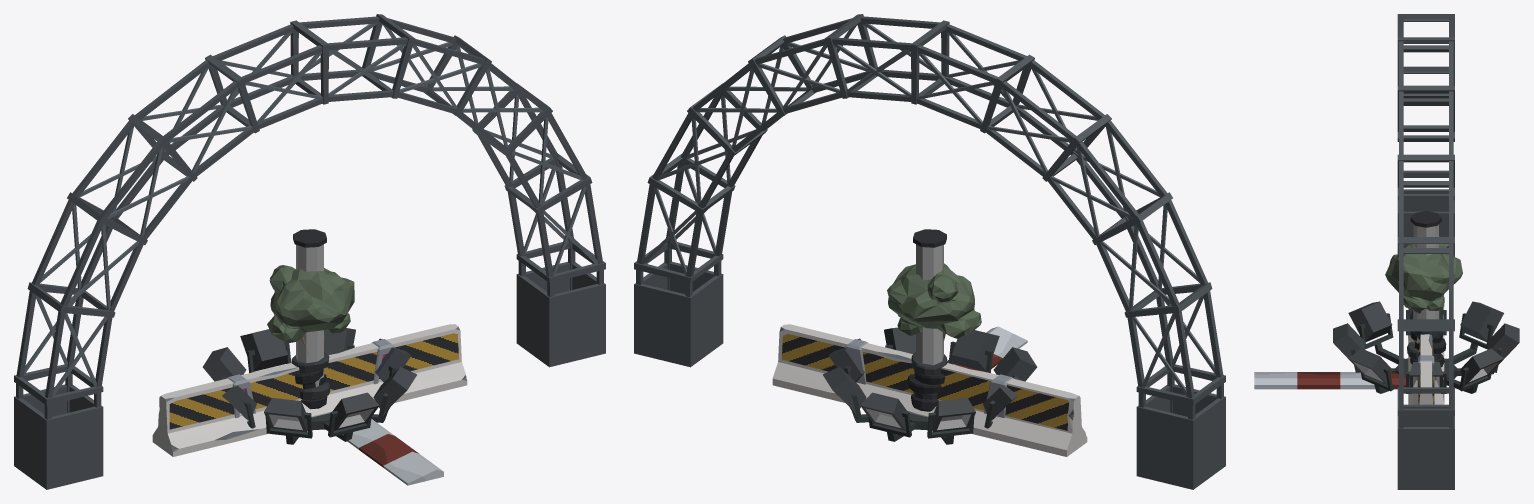
Rendered from redline_road_street.glb.
3 renders of one model, left to right at view 1: azimuth 30°, elevation 25°; view 2: azimuth 150°, elevation 25°; view 3: azimuth 270°, elevation 25°, orthographic. The views are drawn at different scales.
Visible parts, largest first — view 1: Prop_Gantry_Round_01, Prop_Barrier_Concrete_01_Striped_01, Prop_Pole_Large_Lights_01, Generic_Tree_01, Prop_Barrier_Curb_Straight_01, Prop_NeonLight_Large_01, Prop_TyreStack_01, Prop_Barrier_Futuristic_01; view 2: Prop_Gantry_Round_01, Prop_Barrier_Concrete_01_Striped_01, Prop_Pole_Large_Lights_01, Generic_Tree_01, Prop_NeonLight_Large_01, Prop_TyreStack_01, Prop_Barrier_Curb_Straight_01, Prop_Barrier_Futuristic_01; view 3: Prop_Gantry_Round_01, Prop_Pole_Large_Lights_01, Generic_Tree_01, Prop_Barrier_Curb_Straight_01, Prop_Barrier_Concrete_01_Striped_01, Prop_NeonLight_Large_01, Prop_TyreStack_01.
Part boxes in pixels (x1,y1,x2,y2): Prop_Gantry_Round_01: (14,14,605,489); Prop_Barrier_Concrete_01_Striped_01: (152,324,467,456); Prop_Pole_Large_Lights_01: (202,328,417,444); Generic_Tree_01: (267,265,354,355); Prop_Barrier_Curb_Straight_01: (347,419,443,485); Prop_NeonLight_Large_01: (293,229,326,386); Prop_TyreStack_01: (291,352,330,408); Prop_Barrier_Futuristic_01: (226,339,394,417); Prop_Gantry_Round_01: (634,14,1225,489); Prop_Barrier_Concrete_01_Striped_01: (772,324,1087,456); Prop_Pole_Large_Lights_01: (822,327,1037,444); Generic_Tree_01: (887,263,981,341); Prop_NeonLight_Large_01: (913,229,946,365); Prop_TyreStack_01: (908,352,947,411); Prop_Barrier_Curb_Straight_01: (947,326,1027,371); Prop_Barrier_Futuristic_01: (845,339,1013,417); Prop_Gantry_Round_01: (1397,14,1454,489); Prop_Pole_Large_Lights_01: (1333,301,1519,393); Generic_Tree_01: (1385,236,1462,313); Prop_Barrier_Curb_Straight_01: (1254,372,1409,389); Prop_Barrier_Concrete_01_Striped_01: (1408,306,1444,404); Prop_NeonLight_Large_01: (1410,211,1441,346); Prop_TyreStack_01: (1407,331,1446,367).
Bounding box in the file's own units: 12.41 × 8.21 × 5.79.
Materials: 1 (1 with a texture image).
